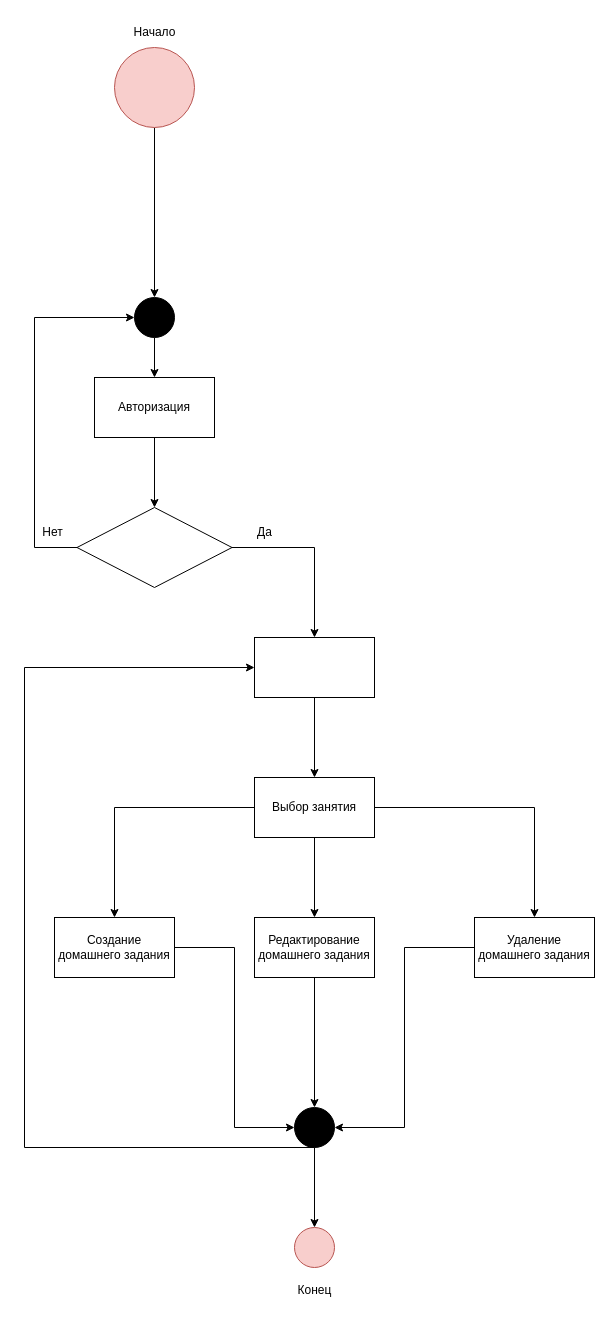
Image size: 612x1322. Some labels were removed from this diagram. The centre of each missing label's shape, as x and y in pixels:
Окно "Расписание занятий": point (314, 667)
Успешно авторизован?: point (154, 547)
